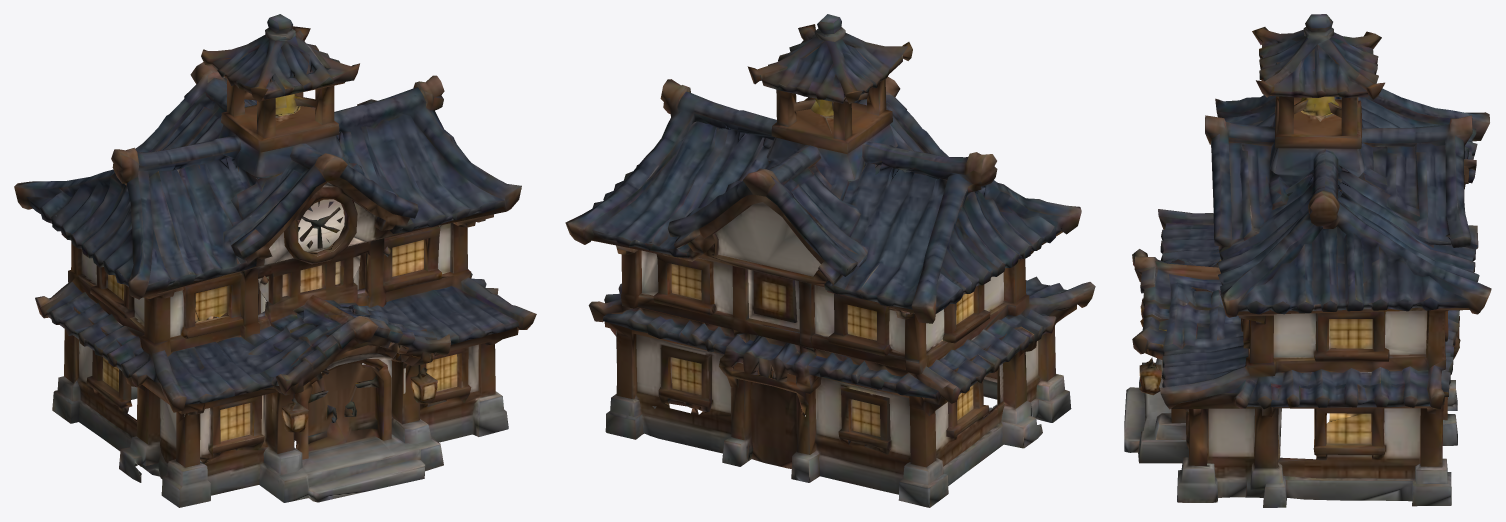
Rendered from candidate.glb.
3 renders of one model, left to right at view 1: azimuth 30°, elevation 25°; view 2: azimuth 150°, elevation 25°; view 3: azimuth 270°, elevation 25°, orthographic.
Visible parts, largest first — view 1: compact__civic_hall__native_mobile; view 2: compact__civic_hall__native_mobile; view 3: compact__civic_hall__native_mobile.
Part boxes in pixels (x1,y1,x2,y2): compact__civic_hall__native_mobile: (14,14,536,507); compact__civic_hall__native_mobile: (565,14,1095,507); compact__civic_hall__native_mobile: (1124,14,1491,507).
Bounding box in the file's own units: 1 × 0.9709 × 0.7876.
Materials: 1 (1 with a texture image).
